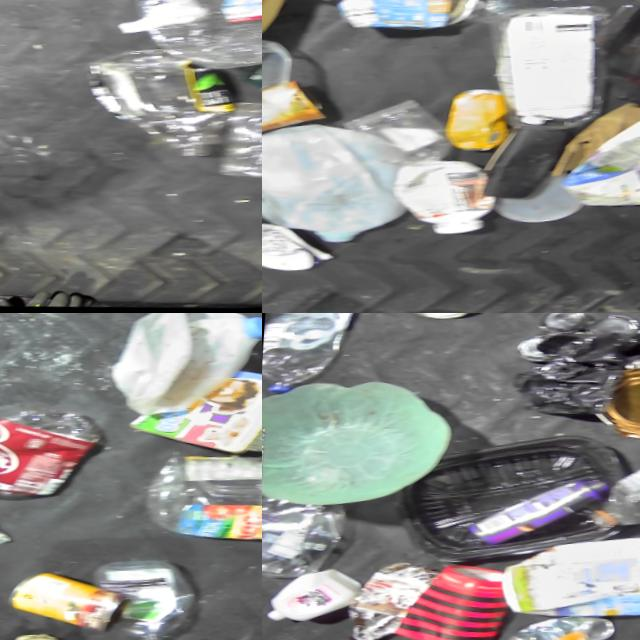can: (3, 567, 134, 640), (443, 89, 513, 159), (262, 76, 331, 144), (591, 366, 640, 449), (505, 613, 617, 640), (398, 313, 500, 326)
milk_jug: (262, 116, 415, 254), (105, 313, 262, 428)
plastic_bottle: (76, 41, 242, 167), (132, 0, 262, 83), (262, 313, 360, 399), (585, 457, 640, 539)
